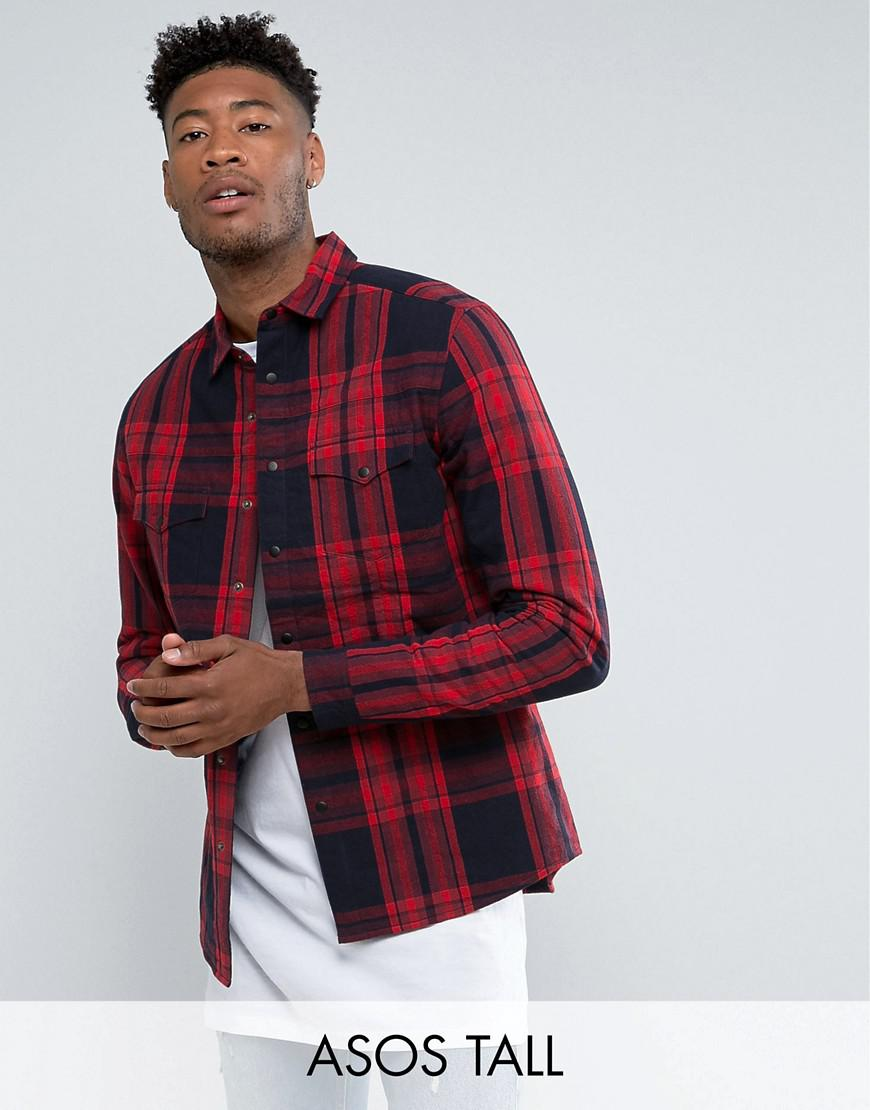teeshirt: (79, 274, 610, 898)
